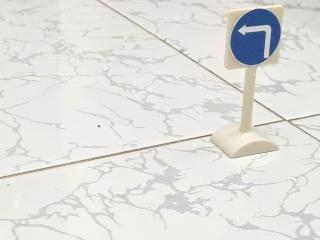left: (223, 5, 286, 69)
